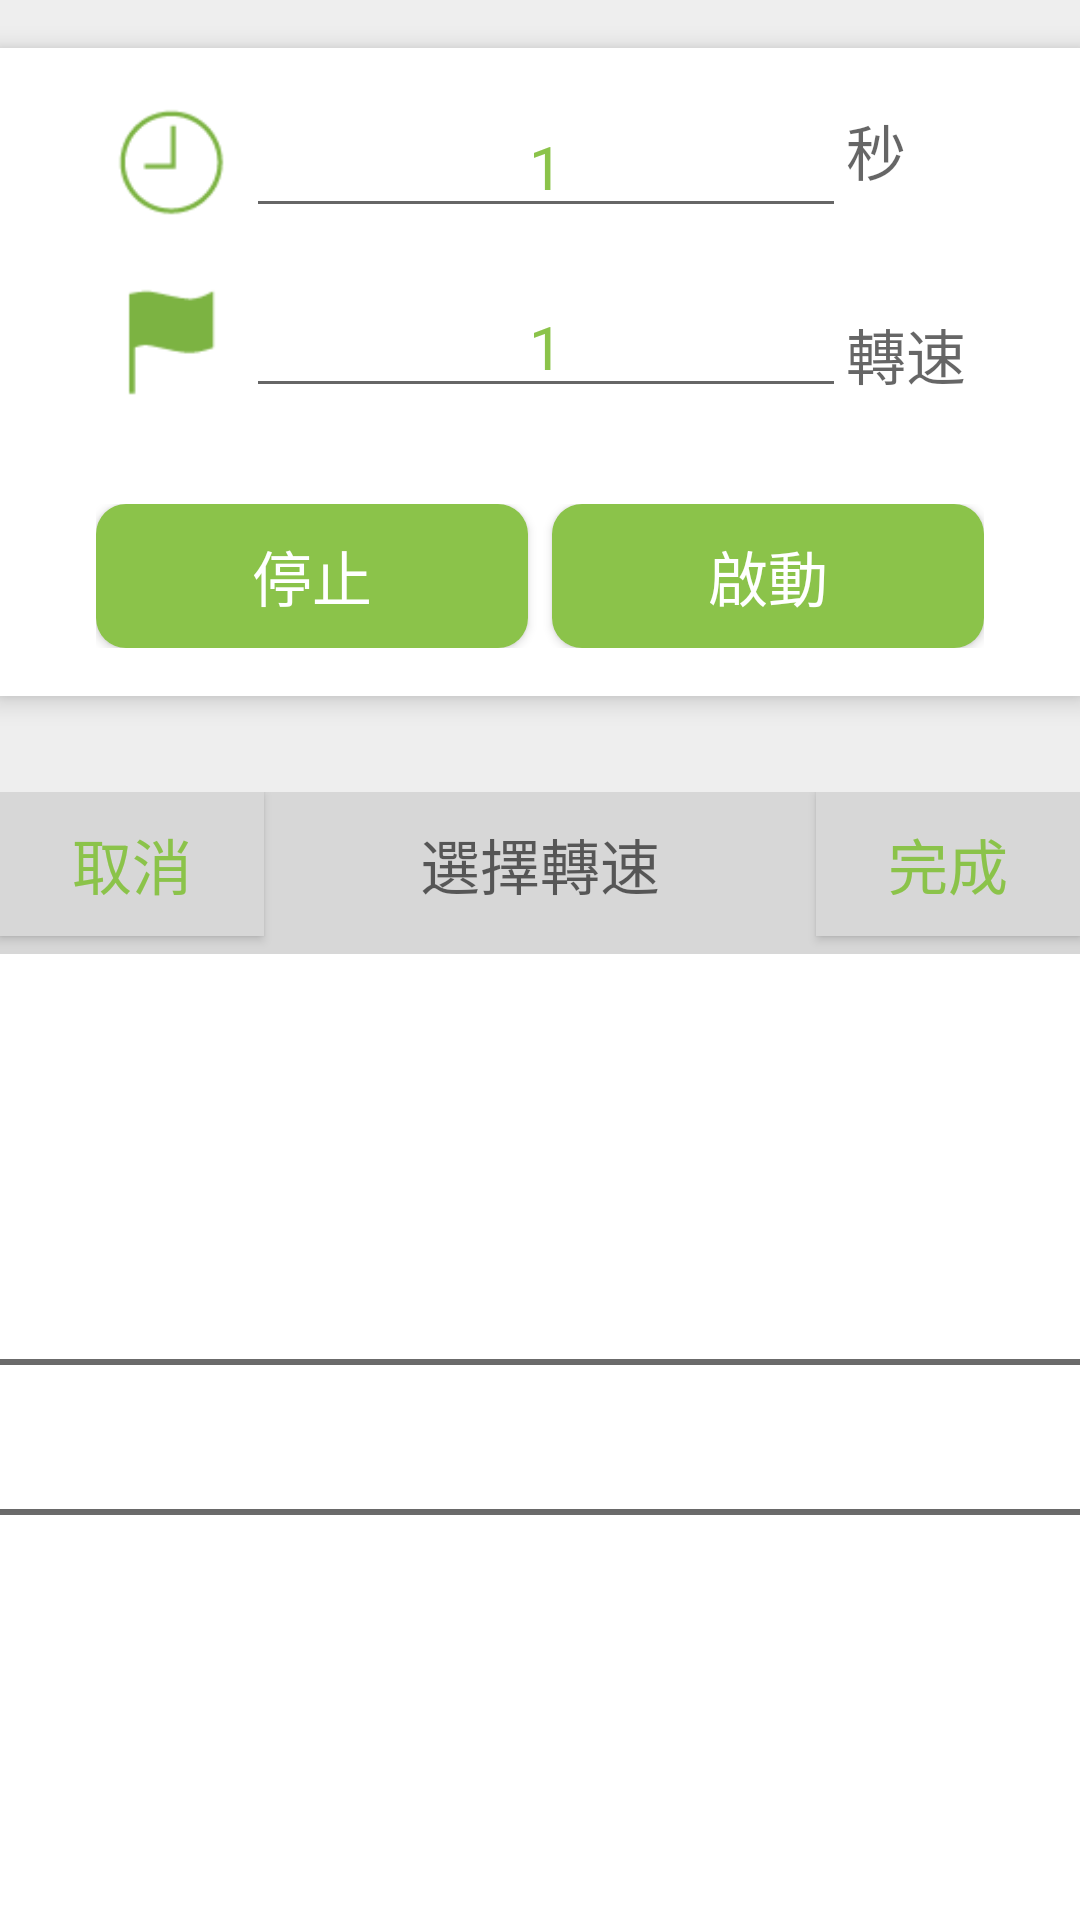

Where icons sit on this 1080px×1920px app screen, as bbox=[x1, y1, x2, y2]:
time: bbox=[119, 110, 224, 215]
